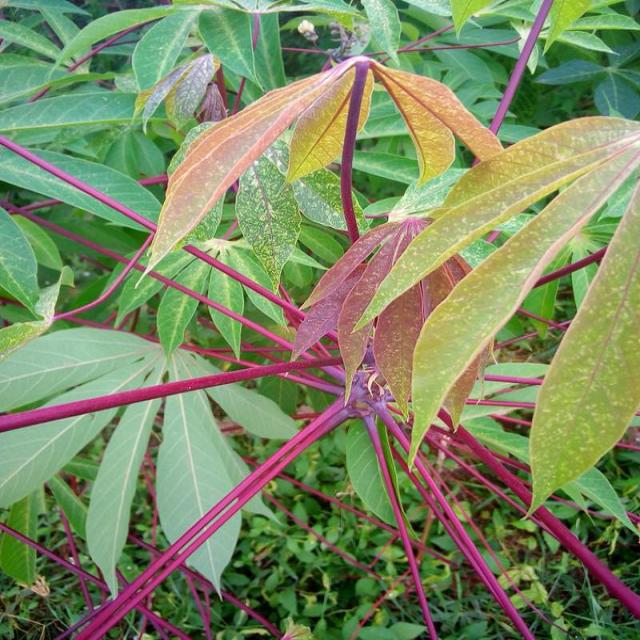cassava leaf: (138, 54, 375, 288), (520, 178, 640, 523)
